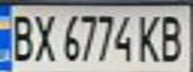4: (112, 11, 139, 63)
6: (57, 10, 81, 63)
7: (97, 11, 118, 63), (78, 10, 96, 62)
B: (154, 10, 190, 63), (6, 10, 36, 63)
K: (133, 11, 163, 63)
X: (30, 10, 57, 63)
